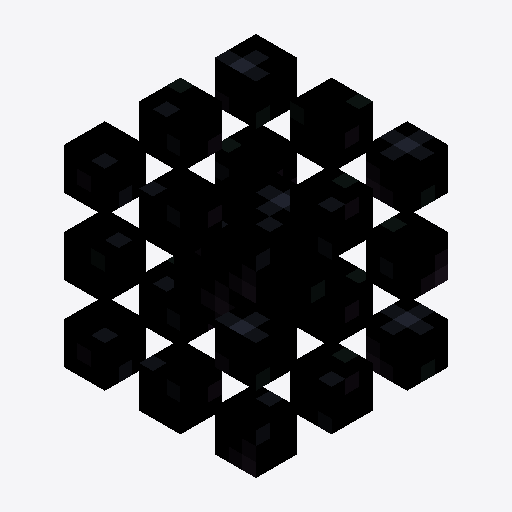
A Minecraft block model of 21 cuboids, rendered isometrically (azimuth 45°, elevation 35.3°) with the resource pack's own textures.
Visible parts, largest first — element 1, element 21, element 15, element 17, element 4, element 13, element 14, element 20, element 7, element 9, element 16, element 18 (+8 smaller).
Part boxes in pixels (x1,y1,x2,y2): element 1: (174, 161, 337, 326); element 21: (215, 209, 296, 302); element 15: (139, 165, 221, 259); element 17: (290, 165, 372, 259); element 4: (215, 300, 296, 390); element 13: (215, 387, 296, 477); element 14: (64, 121, 145, 215); element 20: (366, 121, 447, 215); element 7: (139, 339, 221, 433); element 9: (290, 339, 372, 433); element 16: (290, 78, 372, 168); element 18: (139, 78, 221, 168).
Bounding box in the file's own units: 14 × 14 × 14.